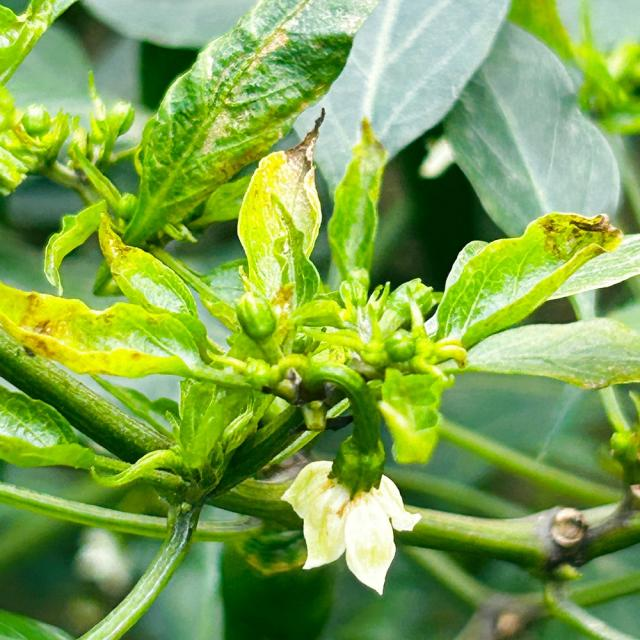Chilli_Leaf_Curl: (1, 2, 638, 634), (120, 0, 379, 249), (427, 210, 626, 352), (279, 456, 422, 596)
